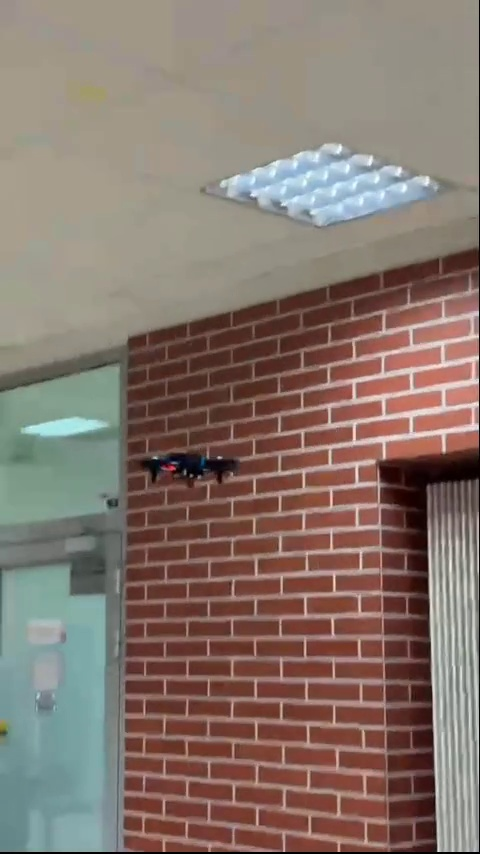drone: (141, 453, 240, 486)
